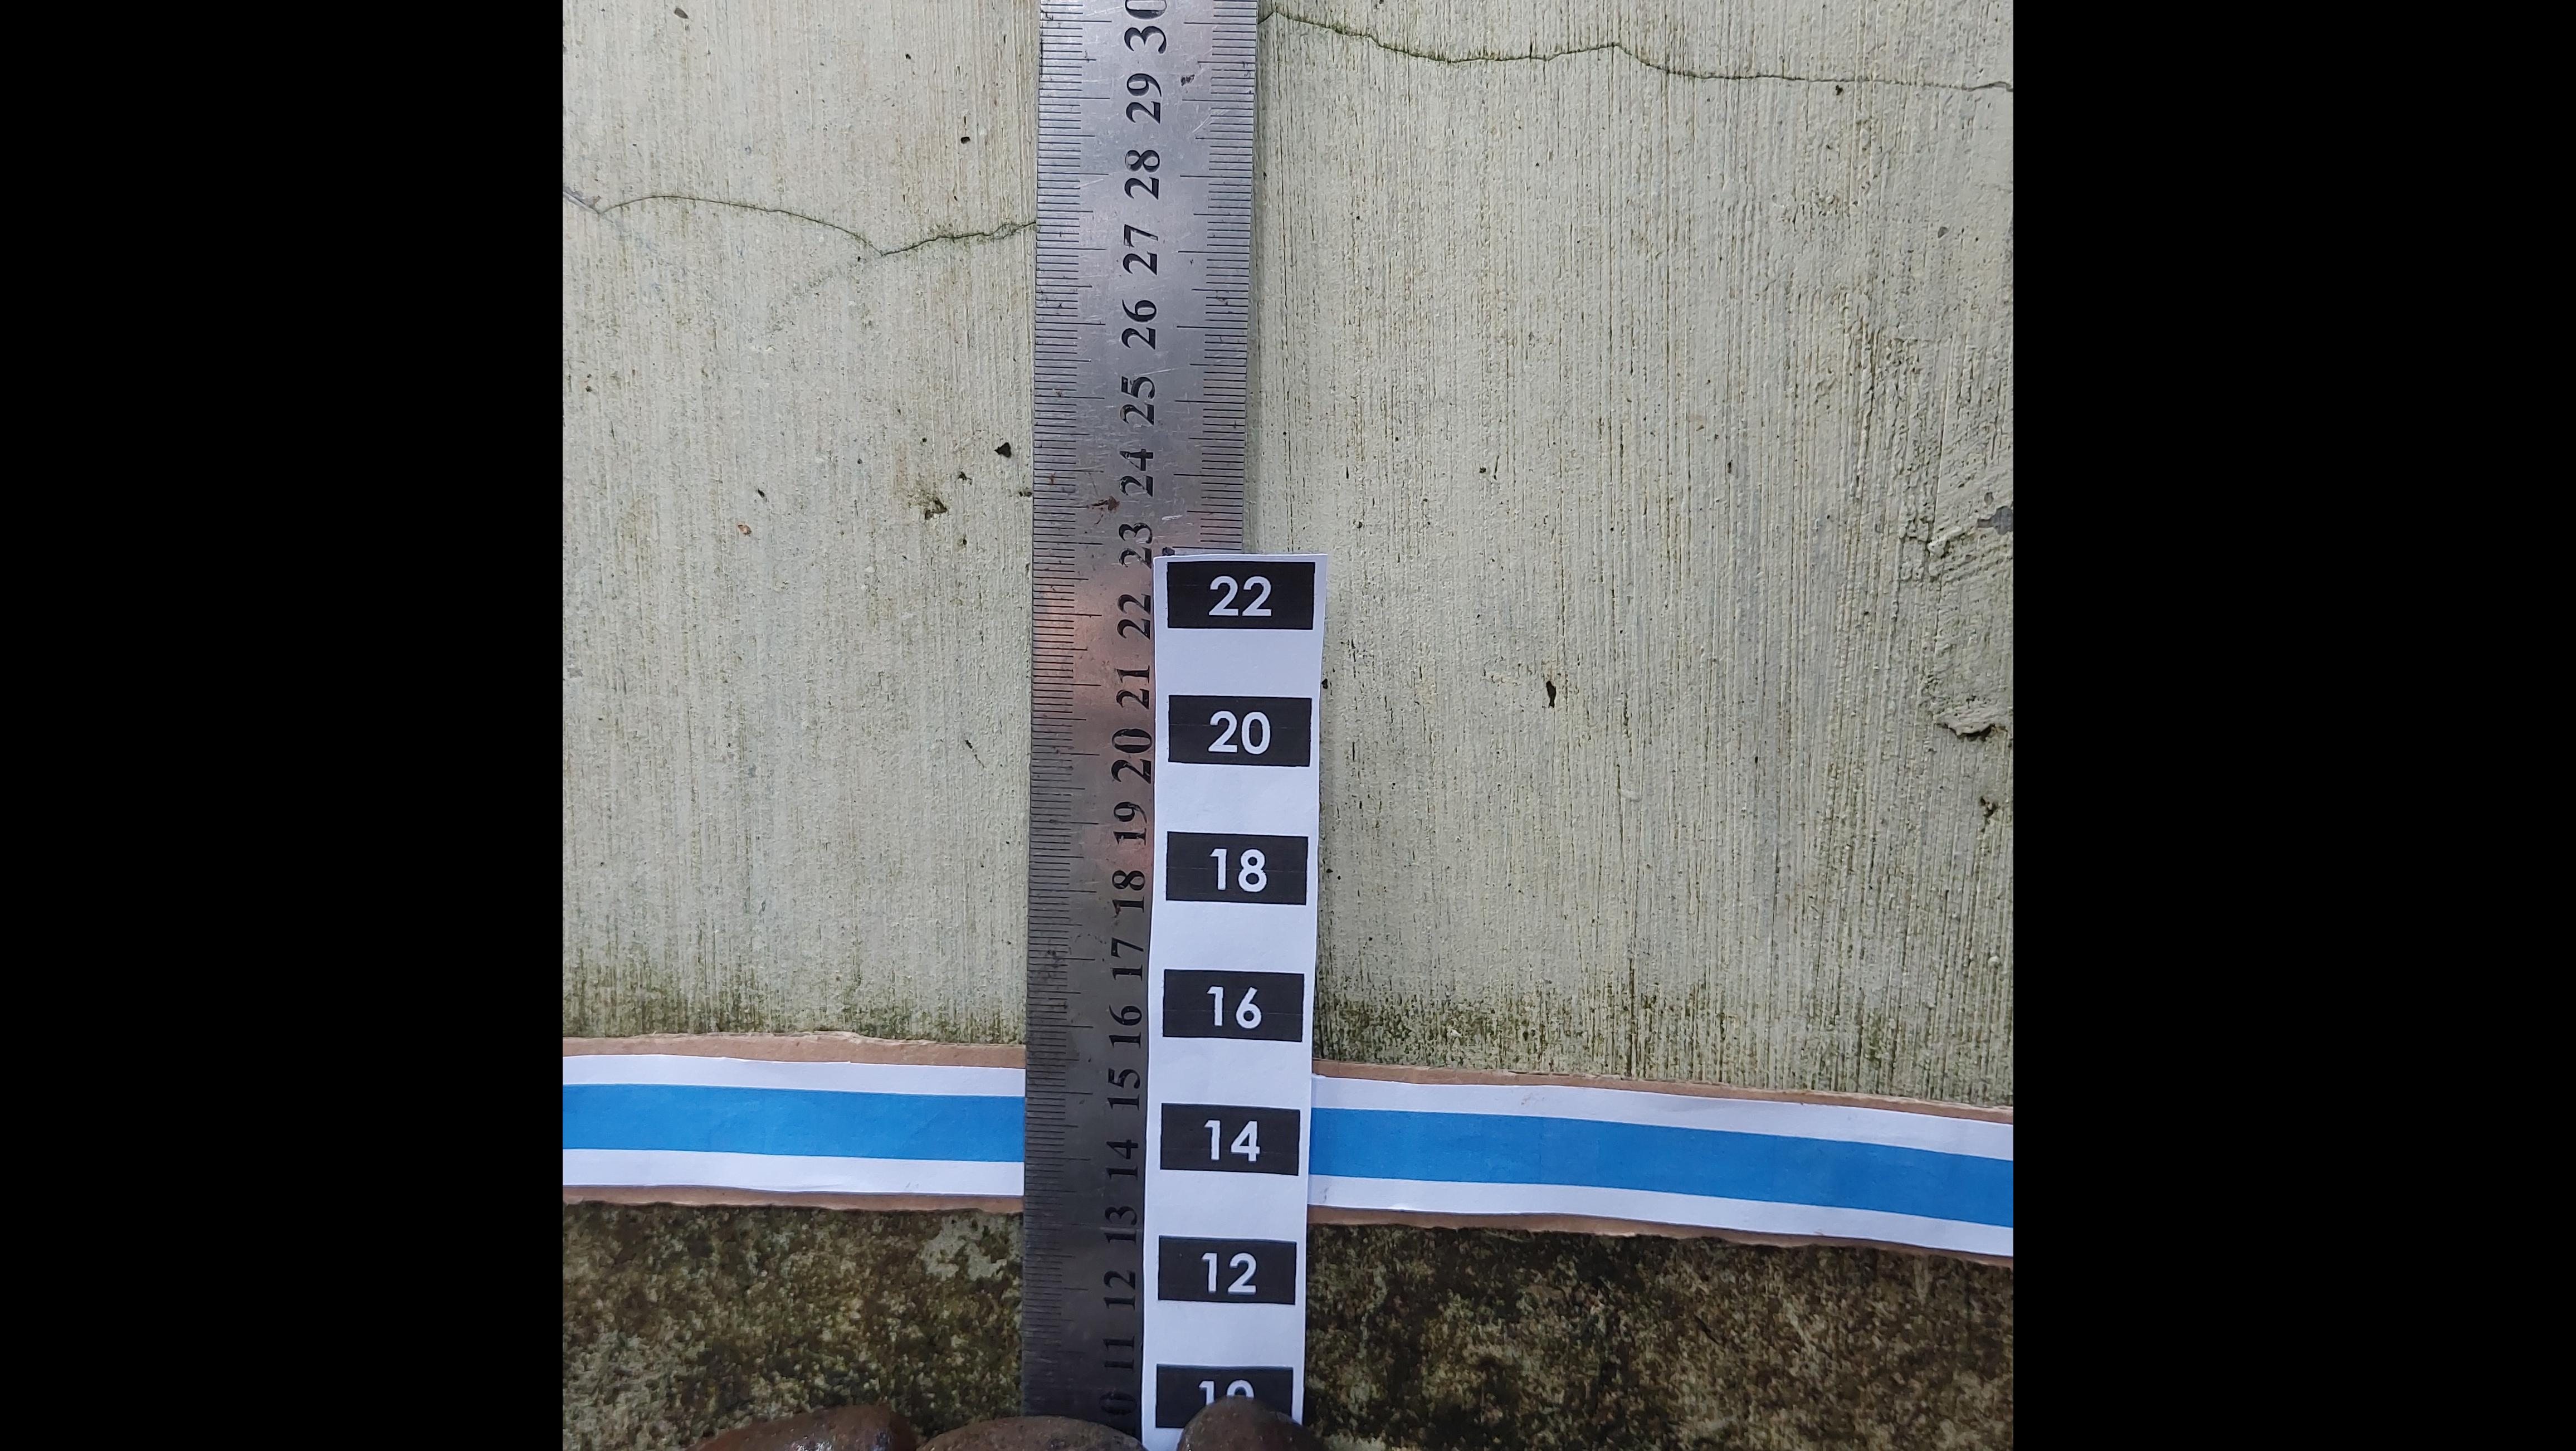kotak_2x1: (1166, 832, 1307, 908), (1168, 694, 1313, 766), (1164, 970, 1304, 1042), (1162, 1104, 1300, 1177), (1166, 561, 1313, 628), (1159, 1235, 1295, 1306)
